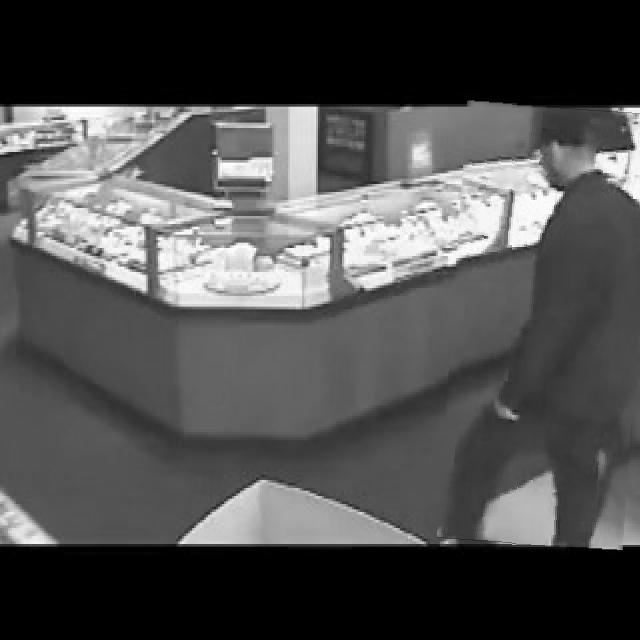Normal: (444, 103, 640, 547)
